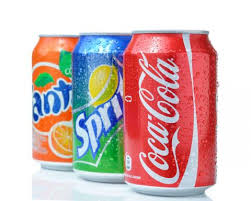can: (123, 30, 217, 197), (73, 33, 133, 183), (32, 34, 92, 171)
